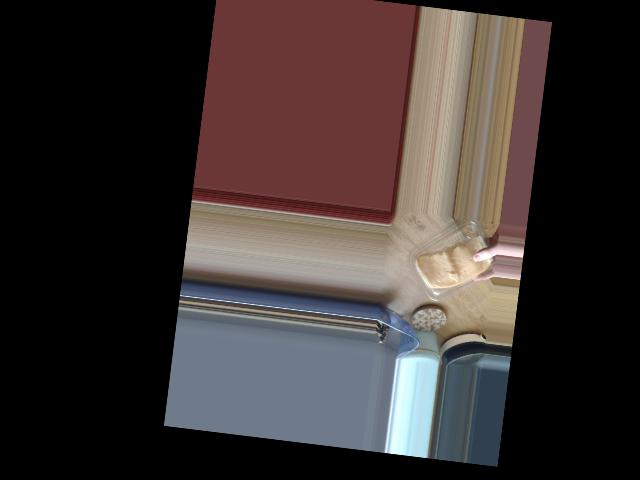cheese: (393, 213, 493, 314)
